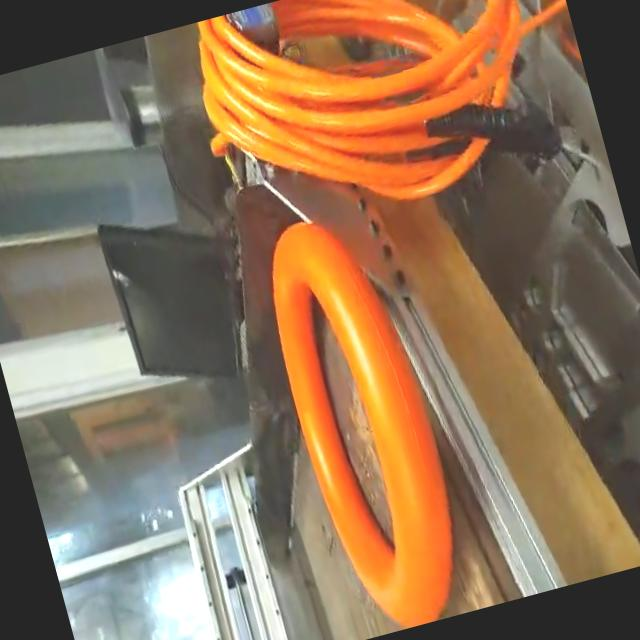note: (247, 202, 480, 640)
